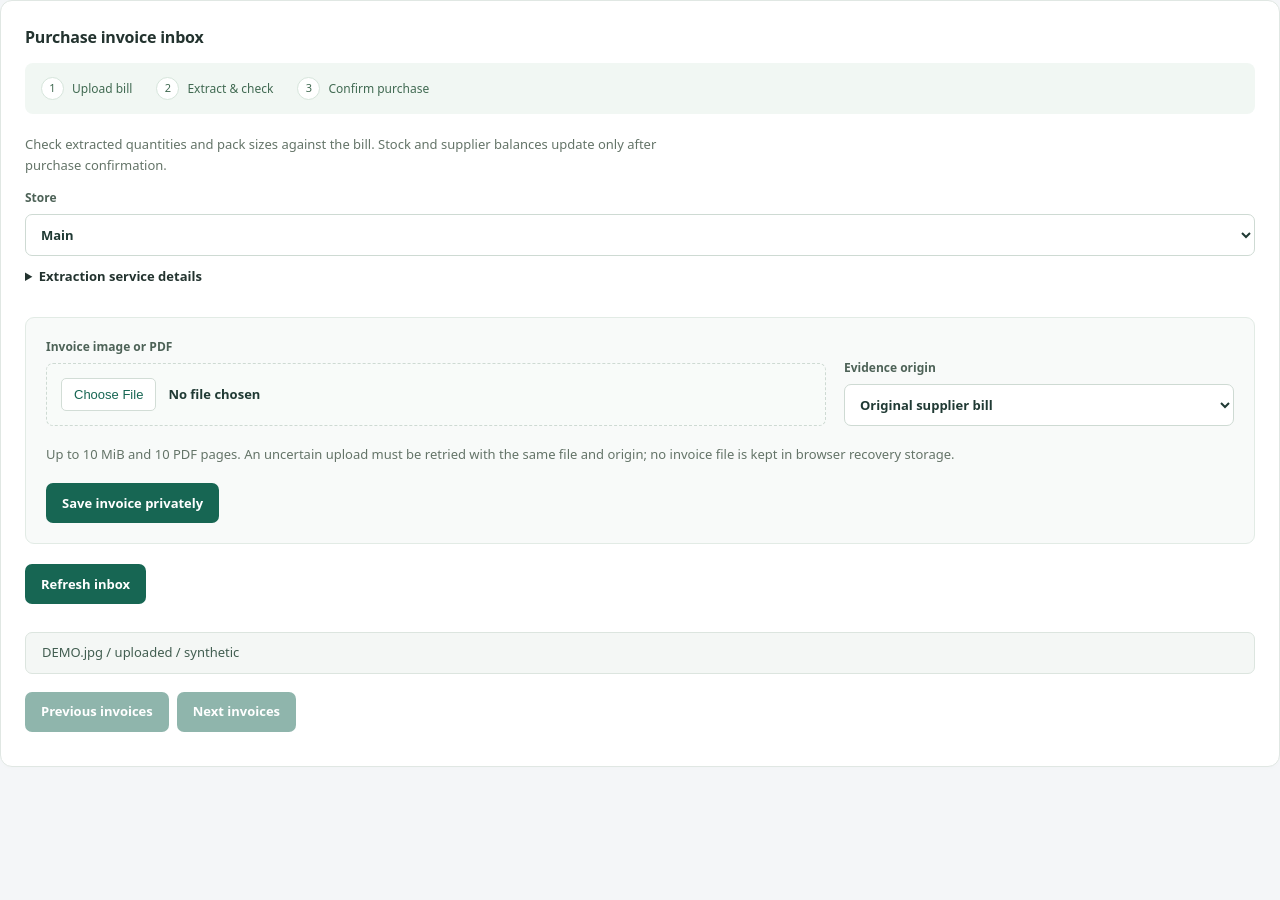
Test: private invoice inbox › exposes genuine unavailable OCR and keeps intake separate from financial posting
What coordinates should you click on to do the following:
click the button "DEMO.jpg / uploaded / synthetic"
I would click on:
 (72, 652)
Its box is left=25, top=632, right=1255, bottom=674.
(page scrolled)
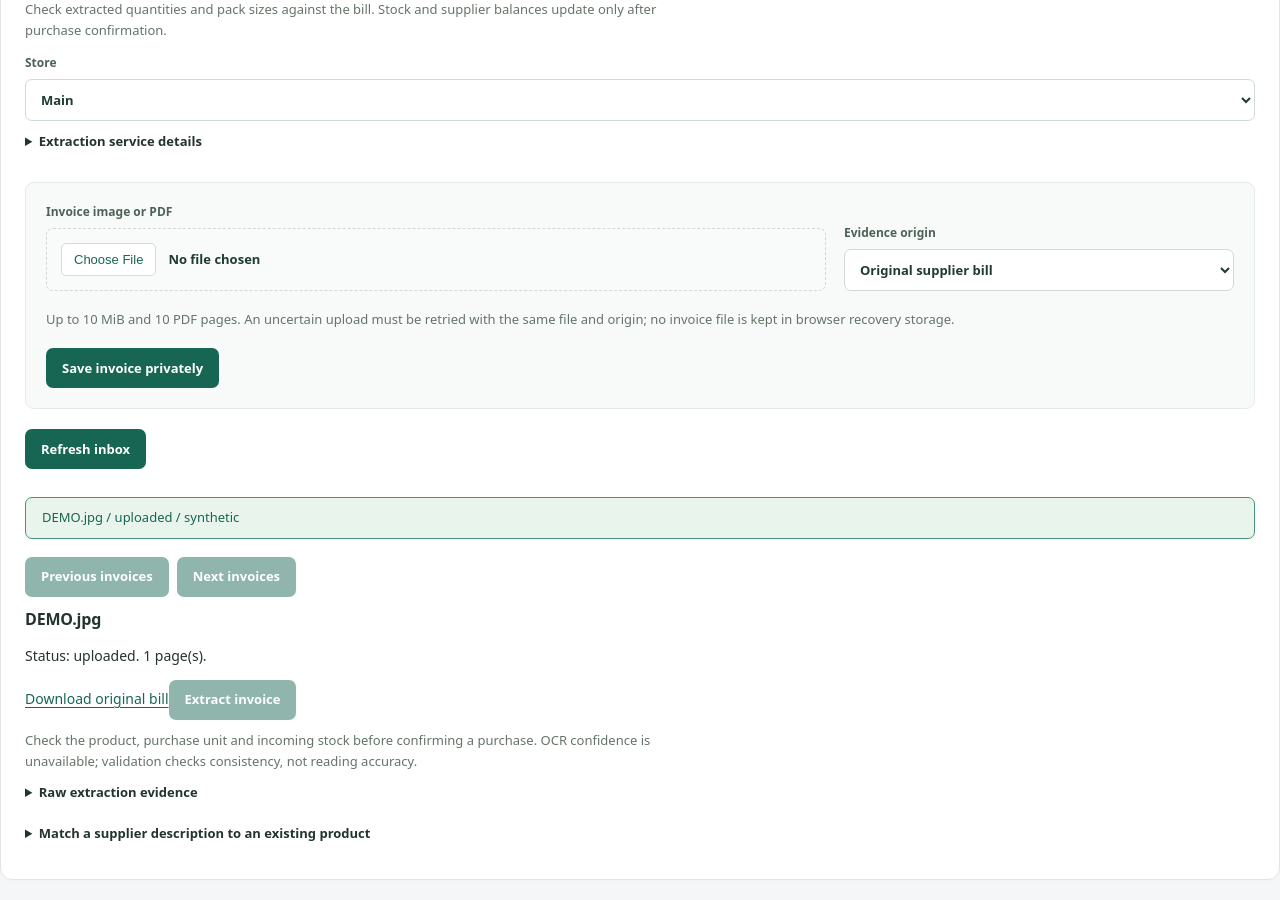
Expected: the button "Extract invoice" is disabled, left=168, top=680, right=296, bottom=720
Expected: the text "OCR confidence is unavailable" is shown, left=25, top=731, right=650, bottom=770
